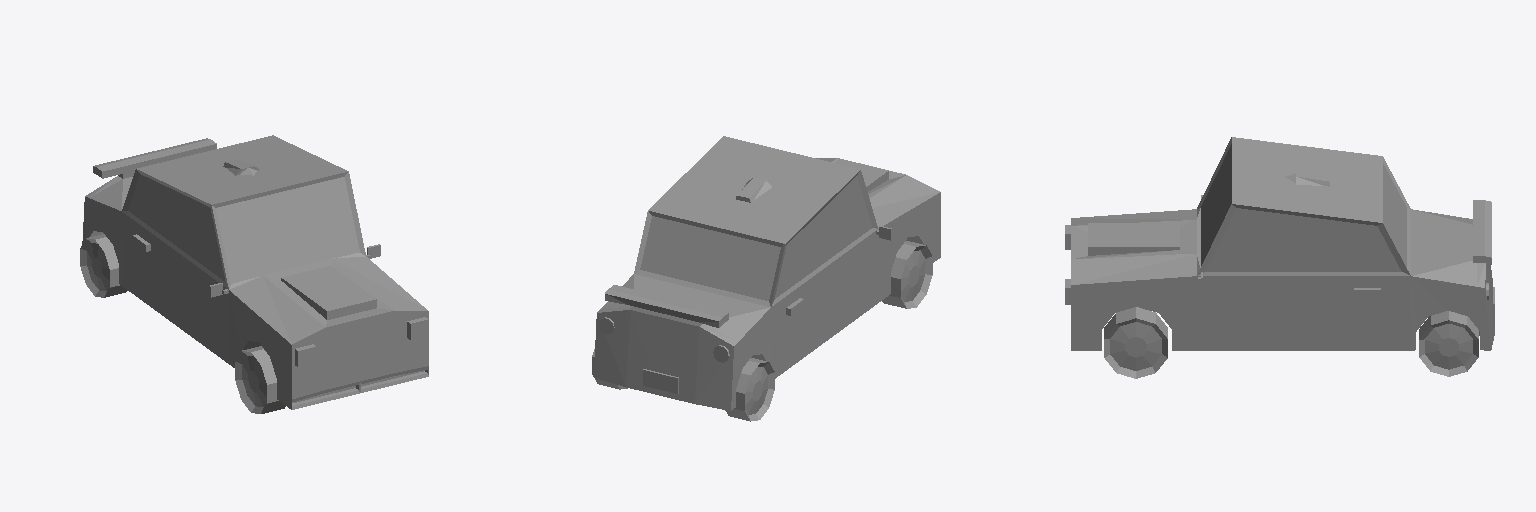
The model's file is car.obj.
3 renders of one model, left to right at view 1: azimuth 30°, elevation 25°; view 2: azimuth 150°, elevation 25°; view 3: azimuth 270°, elevation 25°, orthographic.
Visible parts, largest first — view 1: Cylinder.001; view 2: Cylinder.001; view 3: Cylinder.001.
Boxes of the visible parts, box(x1,y1,x2,y2) form: Cylinder.001: box(80, 135, 428, 413); Cylinder.001: box(592, 136, 940, 421); Cylinder.001: box(1065, 137, 1494, 378).
Bounding box in the file's own units: 1.73 × 1.66 × 3.78.